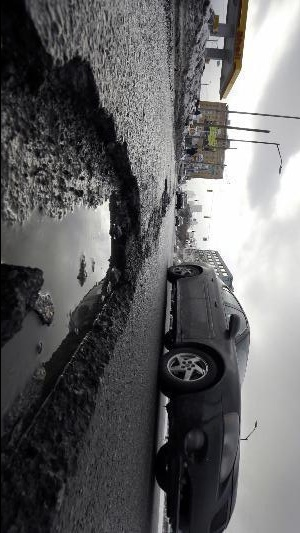pothole: (0, 0, 147, 532)
